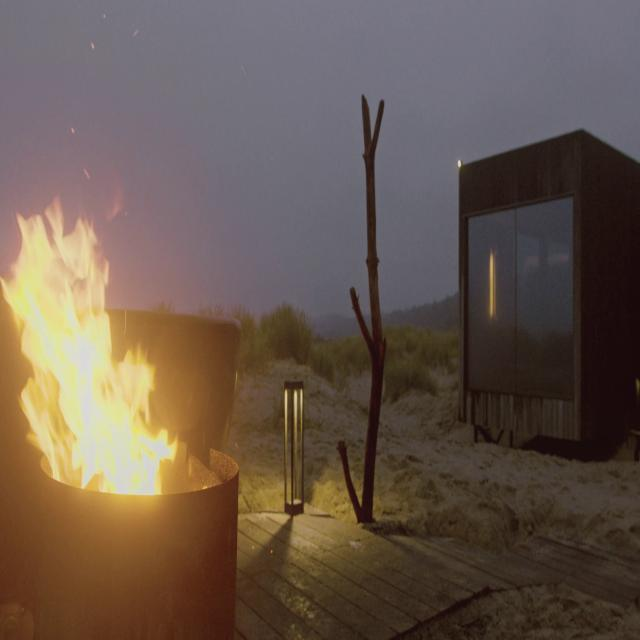Fire: (0, 182, 182, 498)
